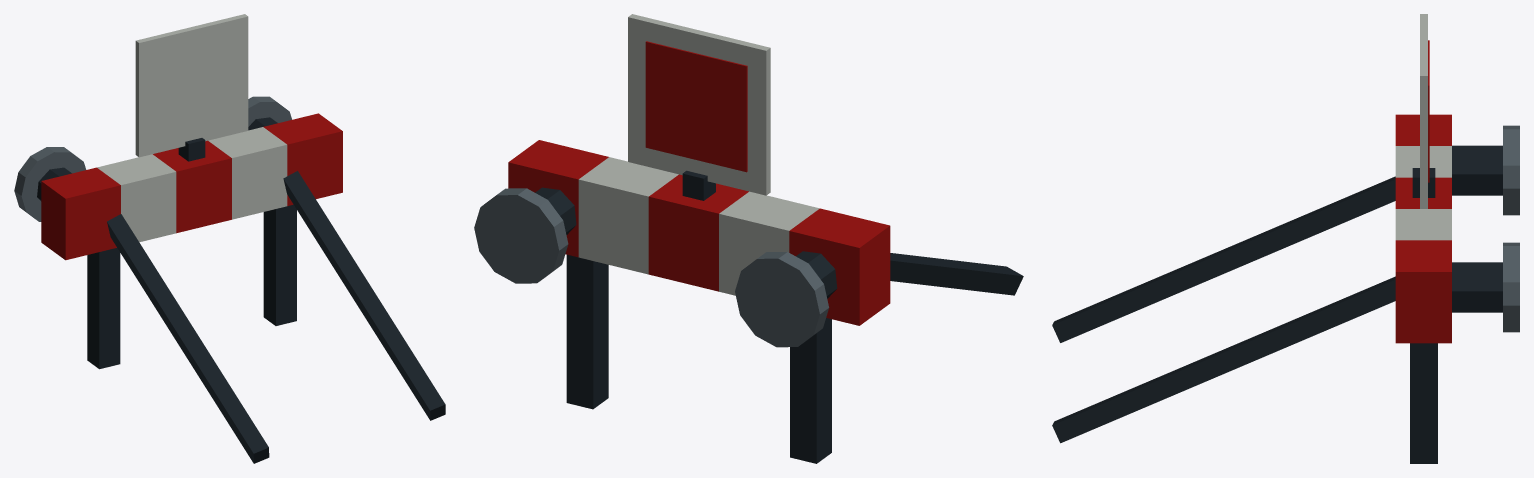
The model's file is buffer-stop.glb.
The picture shows the model from 3 angles, left to right: view 1: azimuth 30°, elevation 25°; view 2: azimuth 150°, elevation 25°; view 3: azimuth 270°, elevation 25°; orthographic projection. The views are drawn at different scales.
Parts seen in each view (by area): view 1: buffer-stop; view 2: buffer-stop; view 3: buffer-stop.
Part boxes in pixels (x1,y1,x2,y2): buffer-stop: (14,14,445,463); buffer-stop: (474,14,1023,463); buffer-stop: (1052,14,1519,463).
Size of the model in its own units: 6.6 by 7.1 by 8.29.
